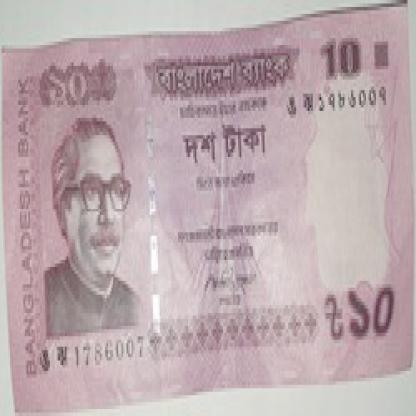Ten Taka: (36, 59, 107, 118), (344, 281, 402, 346), (316, 31, 368, 87)
